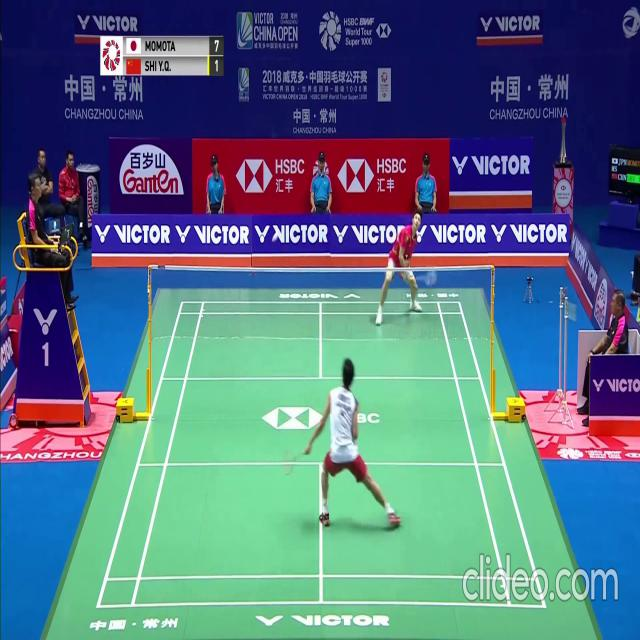Shuttlecock: (273, 233, 277, 240)
